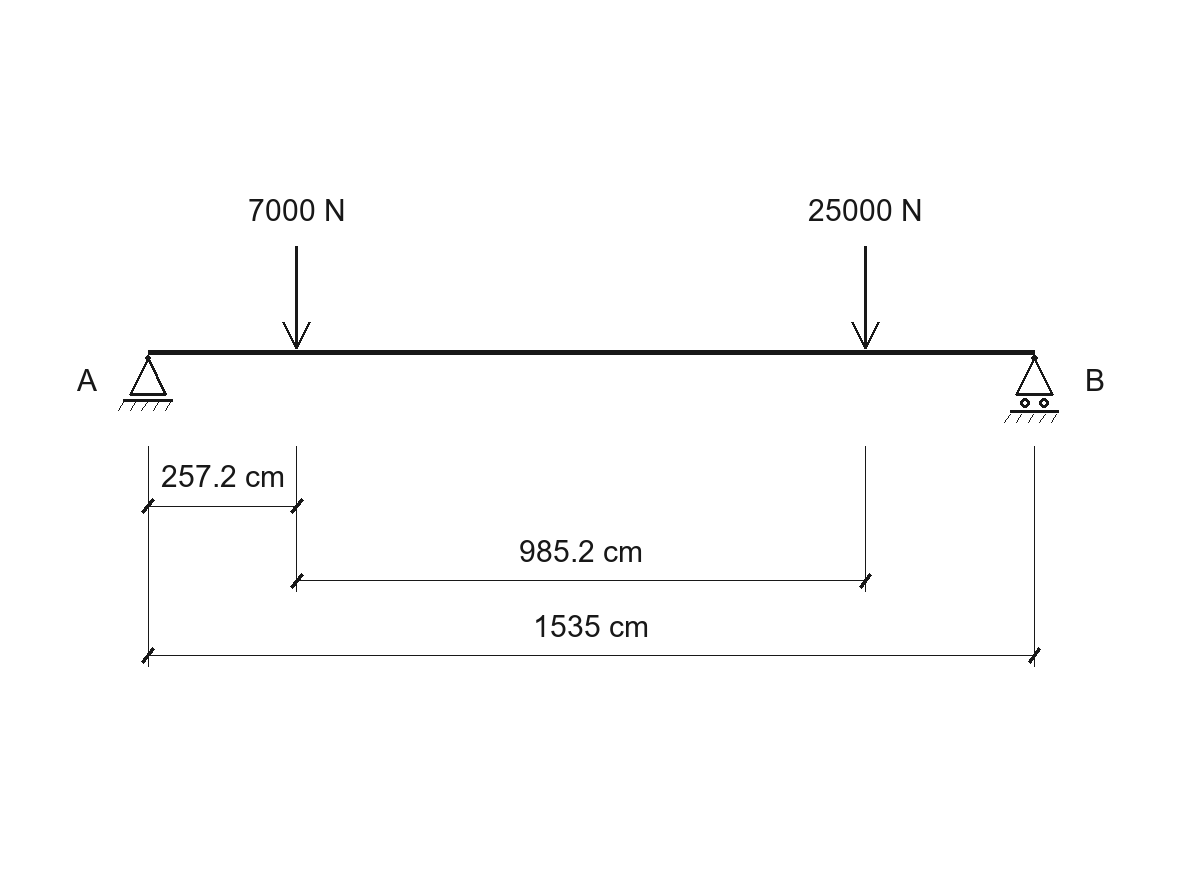pin_support: (118, 355, 173, 411)
point_load: (282, 246, 311, 349), (851, 246, 880, 349)
roller_support: (1004, 355, 1059, 423)
